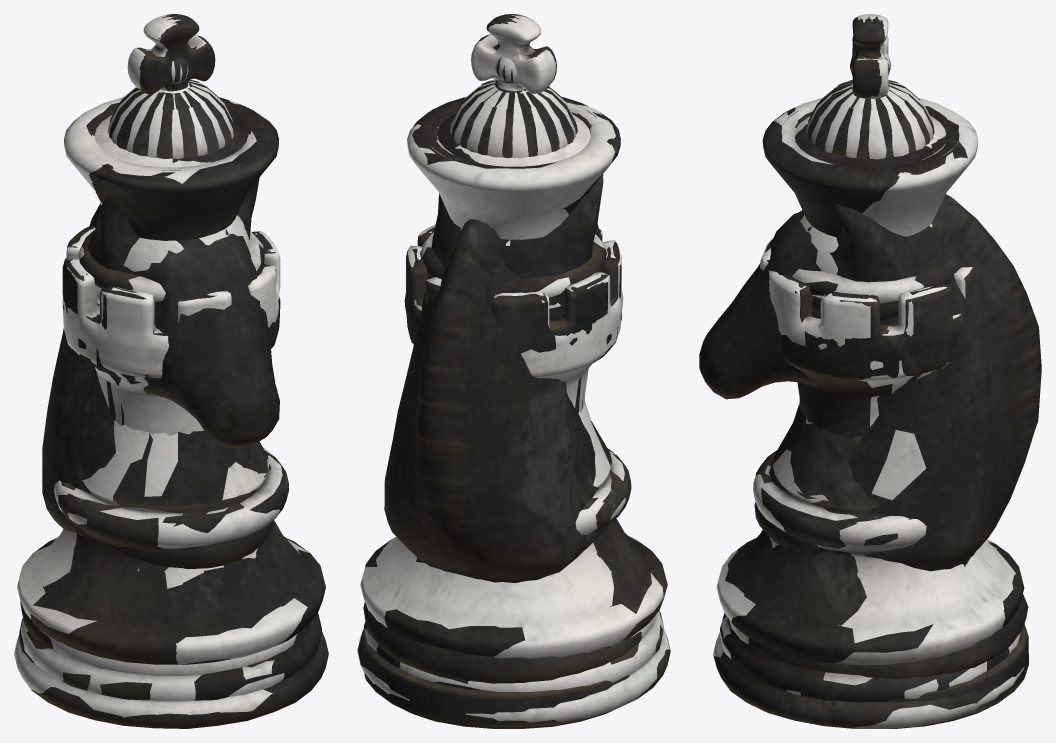
The model's file is marble.glb.
3 renders of one model, left to right at view 1: azimuth 30°, elevation 25°; view 2: azimuth 150°, elevation 25°; view 3: azimuth 270°, elevation 25°, orthographic.
Parts seen in each view (by area): view 1: dark_queen, dark_knight, light_queen, light_rook, light_king, dark_king, dark_rook, light_bishop; view 2: dark_knight, light_queen, dark_queen, light_king, dark_rook, light_rook, dark_bishop, dark_king; view 3: dark_knight, dark_queen, light_queen, dark_rook, dark_king, light_rook, light_king, light_knight, light_bishop, dark_bishop.
Part boxes in pixels (x1=…): dark_queen: x1=26, y1=57, x2=325, y2=700; dark_knight: x1=19, y1=177, x2=279, y2=663; light_queen: x1=17, y1=61, x2=321, y2=701; light_rook: x1=62, y1=227, x2=280, y2=435; light_king: x1=14, y1=14, x2=297, y2=718; dark_king: x1=31, y1=14, x2=328, y2=728; dark_rook: x1=62, y1=226, x2=280, y2=425; light_bishop: x1=124, y1=82, x2=249, y2=271; dark_knight: x1=362, y1=174, x2=641, y2=728; light_queen: x1=360, y1=57, x2=663, y2=691; dark_queen: x1=364, y1=58, x2=667, y2=690; light_king: x1=357, y1=15, x2=669, y2=722; dark_rook: x1=404, y1=227, x2=621, y2=412; light_rook: x1=408, y1=224, x2=623, y2=412; dark_bishop: x1=437, y1=82, x2=544, y2=274; dark_king: x1=357, y1=14, x2=670, y2=699; dark_knight: x1=699, y1=194, x2=1041, y2=728; dark_queen: x1=720, y1=52, x2=1024, y2=702; light_queen: x1=716, y1=52, x2=1020, y2=698; dark_rook: x1=764, y1=239, x2=975, y2=438; dark_king: x1=713, y1=16, x2=998, y2=728; light_rook: x1=760, y1=239, x2=972, y2=426; light_king: x1=713, y1=14, x2=1024, y2=728; light_knight: x1=871, y1=430, x2=926, y2=500; light_bishop: x1=800, y1=83, x2=932, y2=274; dark_bishop: x1=800, y1=84, x2=940, y2=265.
Size of the model in its own units: 0.0297 by 0.068 by 0.0325.
Materials: 2 (2 with a texture image).
